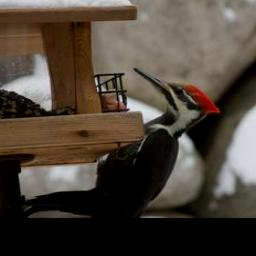Woodpecker: (12, 68, 234, 217)
